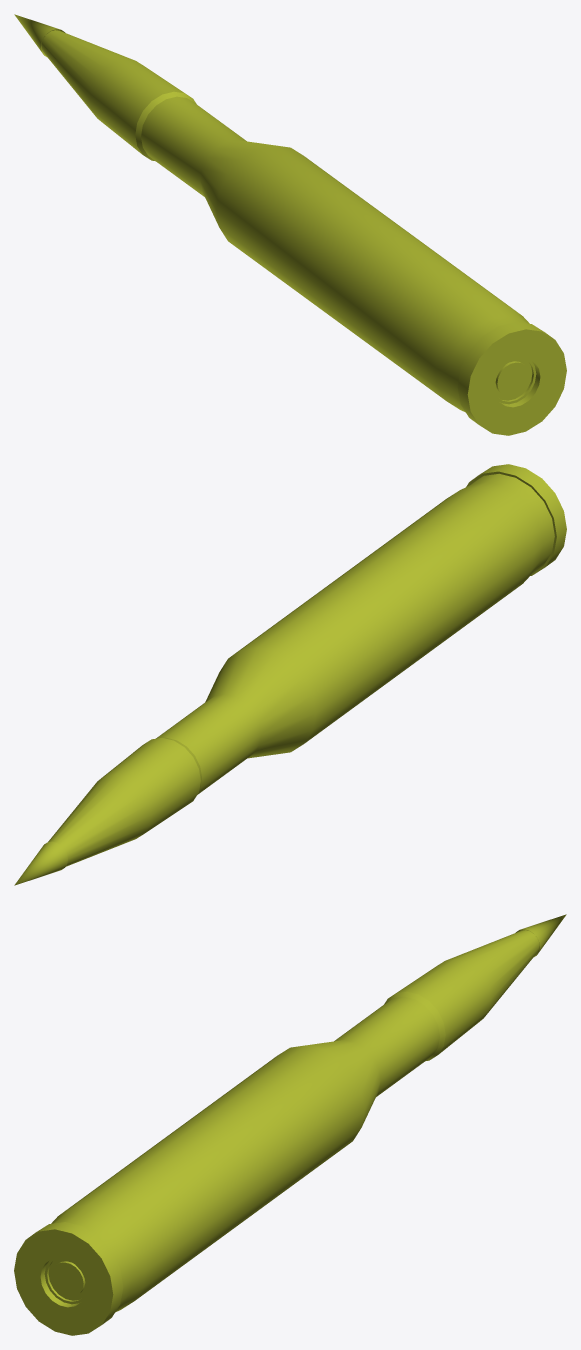
File: bullet.FBX
3 renders of one model, top to bottom at view 1: azimuth 30°, elevation 25°; view 2: azimuth 150°, elevation 25°; view 3: azimuth 330°, elevation 25°, orthographic.
Visible parts, largest first — view 1: Bullet; view 2: Bullet; view 3: Bullet.
Part boxes in pixels (x1,y1,x2,y2): Bullet: (14, 14, 566, 435); Bullet: (14, 464, 566, 885); Bullet: (14, 914, 566, 1335).
Size of the model in its own units: 1.92 by 1.89 by 16.83.
